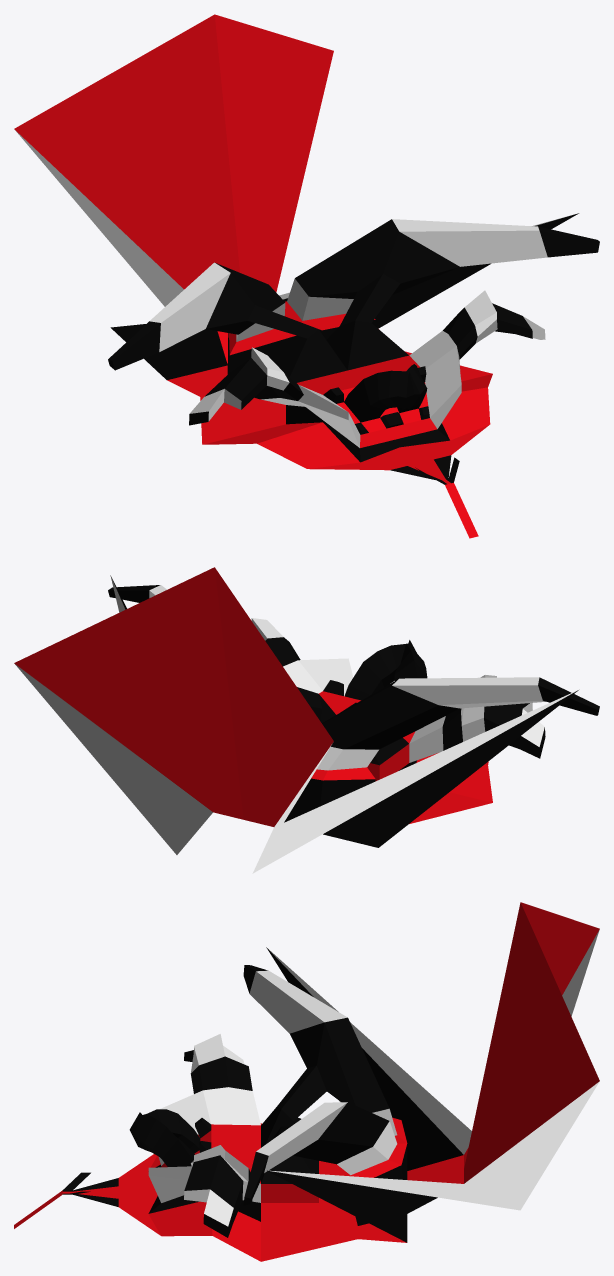
The model's file is Building2.fbx.
3 renders of one model, top to bottom at view 1: azimuth 30°, elevation 25°; view 2: azimuth 150°, elevation 25°; view 3: azimuth 270°, elevation 25°, orthographic. The views are drawn at different scales.
Visible parts, largest first — view 1: Plane; view 2: Plane; view 3: Plane.
Part boxes in pixels (<box>): Plane: <box>14,14,599,538</box>; Plane: <box>14,567,599,873</box>; Plane: <box>14,902,599,1261</box>.
Size of the model in its own units: 53456 by 34725 by 56731.
